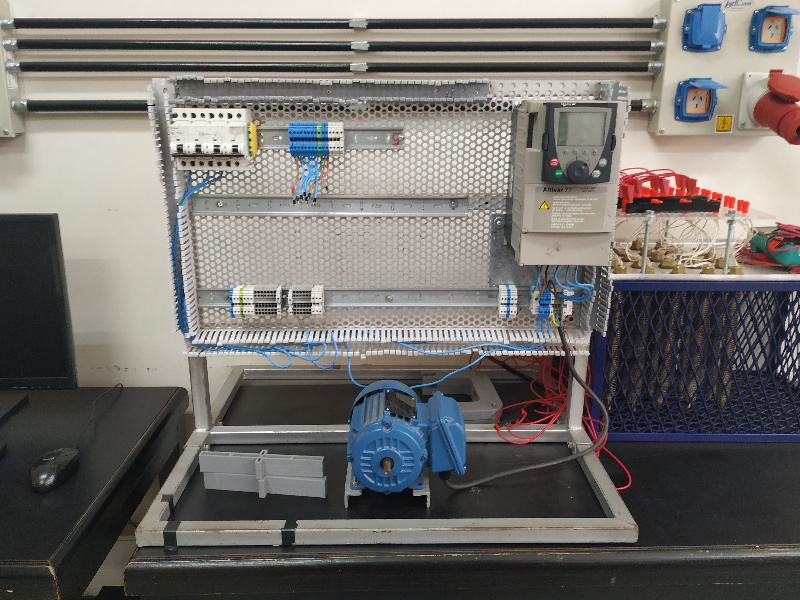Tablero 0: (156, 91, 624, 369)
